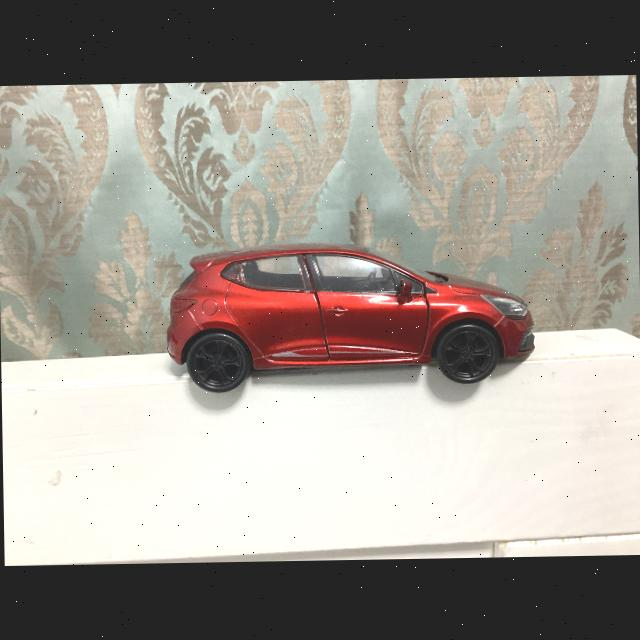Dogru_Jant: (194, 338, 242, 386), (442, 331, 491, 376)
